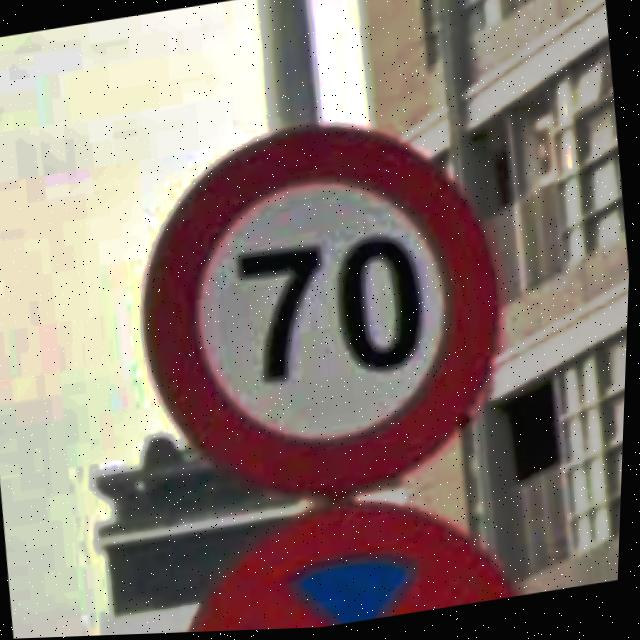max70: (113, 93, 532, 526)
